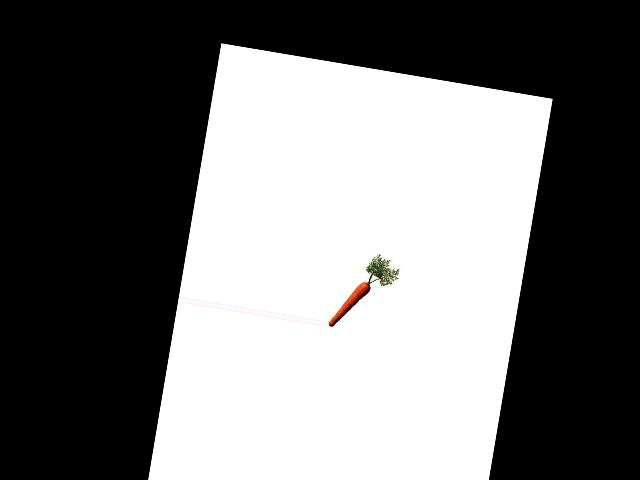carrot: (326, 271, 373, 334)
